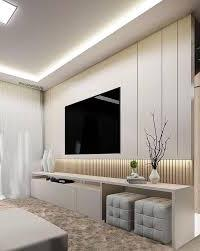TV: (57, 87, 133, 158)
chair: (136, 195, 175, 248), (103, 189, 138, 234)
console: (21, 175, 190, 241)
light: (0, 0, 167, 82), (0, 1, 17, 27)
table: (0, 203, 70, 250)
